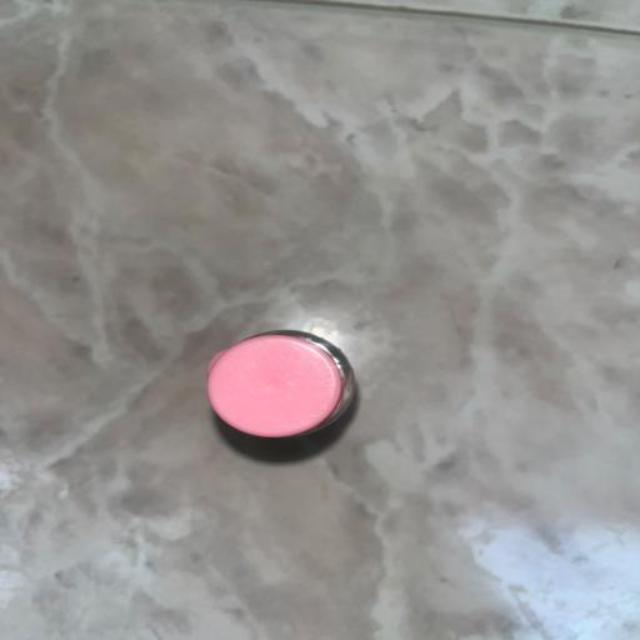PET: (137, 275, 482, 604)
